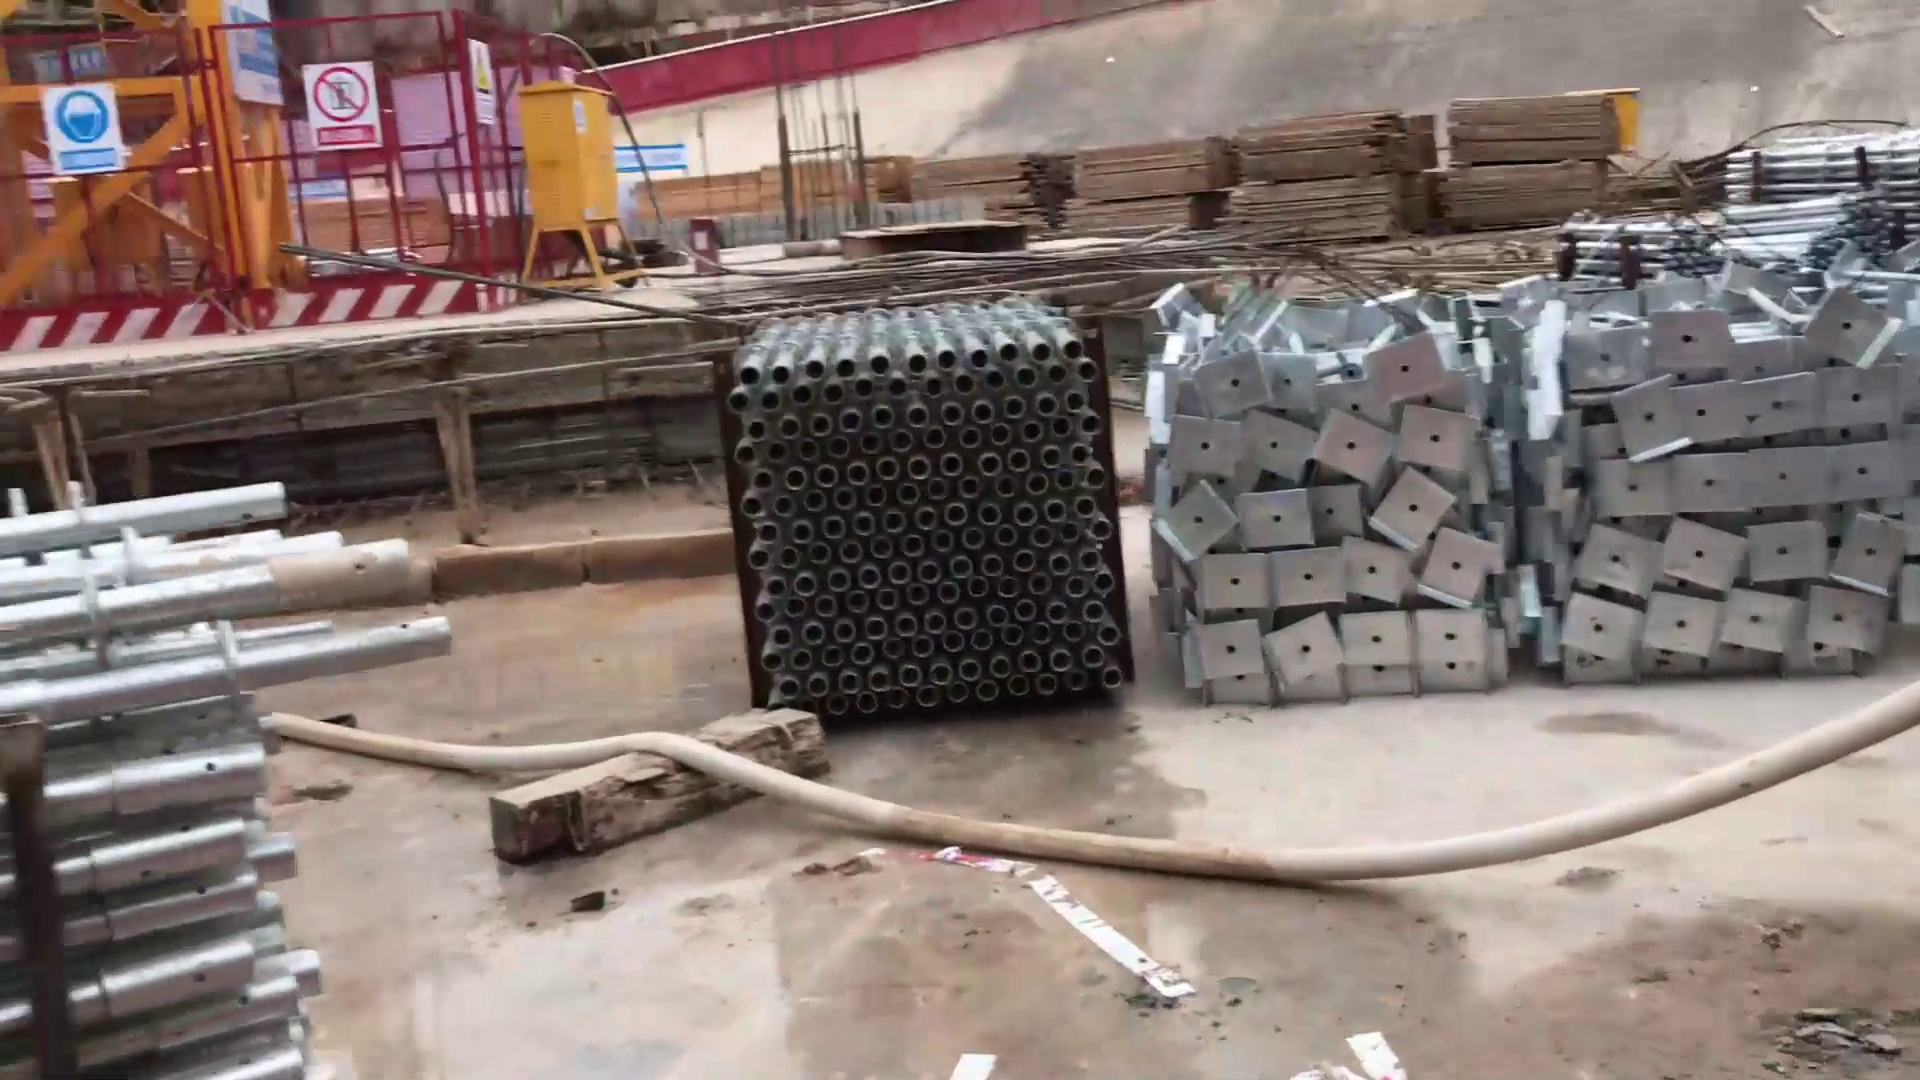ebox: (516, 76, 644, 291)
scaffold: (1, 483, 444, 1073), (732, 297, 1122, 716), (1563, 276, 1920, 700), (1164, 291, 1519, 711), (1559, 148, 1912, 293)
slogan: (44, 74, 137, 175), (297, 55, 386, 160)
wood: (1230, 94, 1432, 249), (1433, 78, 1626, 222), (633, 149, 915, 233), (1073, 124, 1222, 249), (920, 150, 1073, 244)
